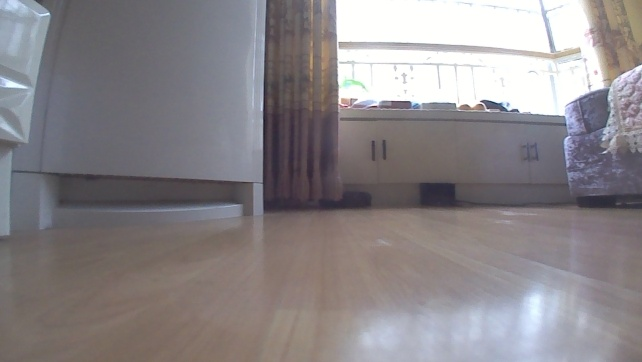sofa1: (556, 62, 641, 210)
